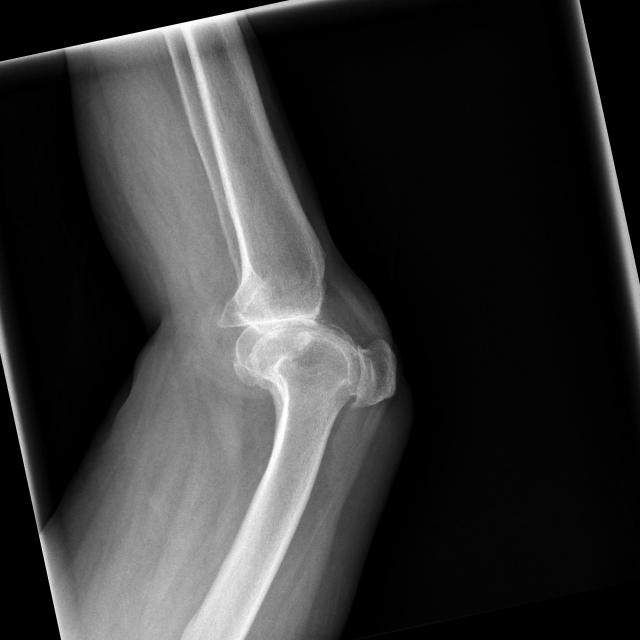Knee: (204, 247, 404, 437)
